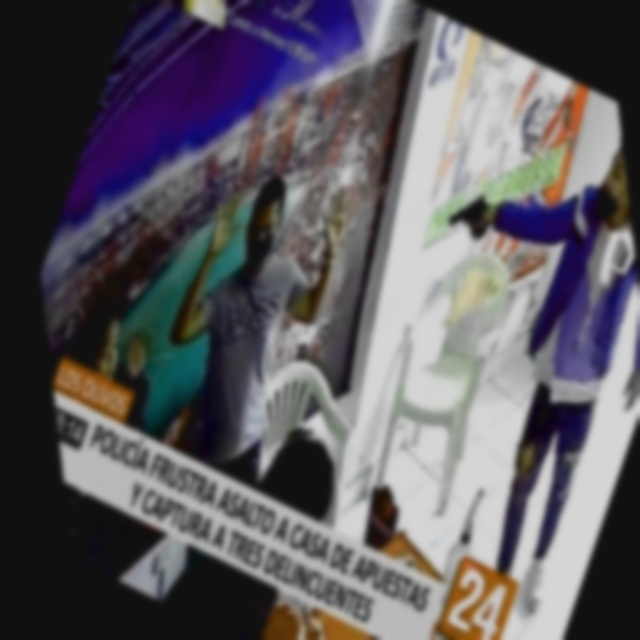gun: (416, 148, 522, 276)
